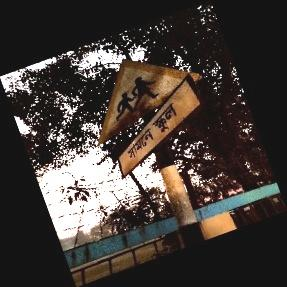School-in-front: (100, 61, 203, 178)
